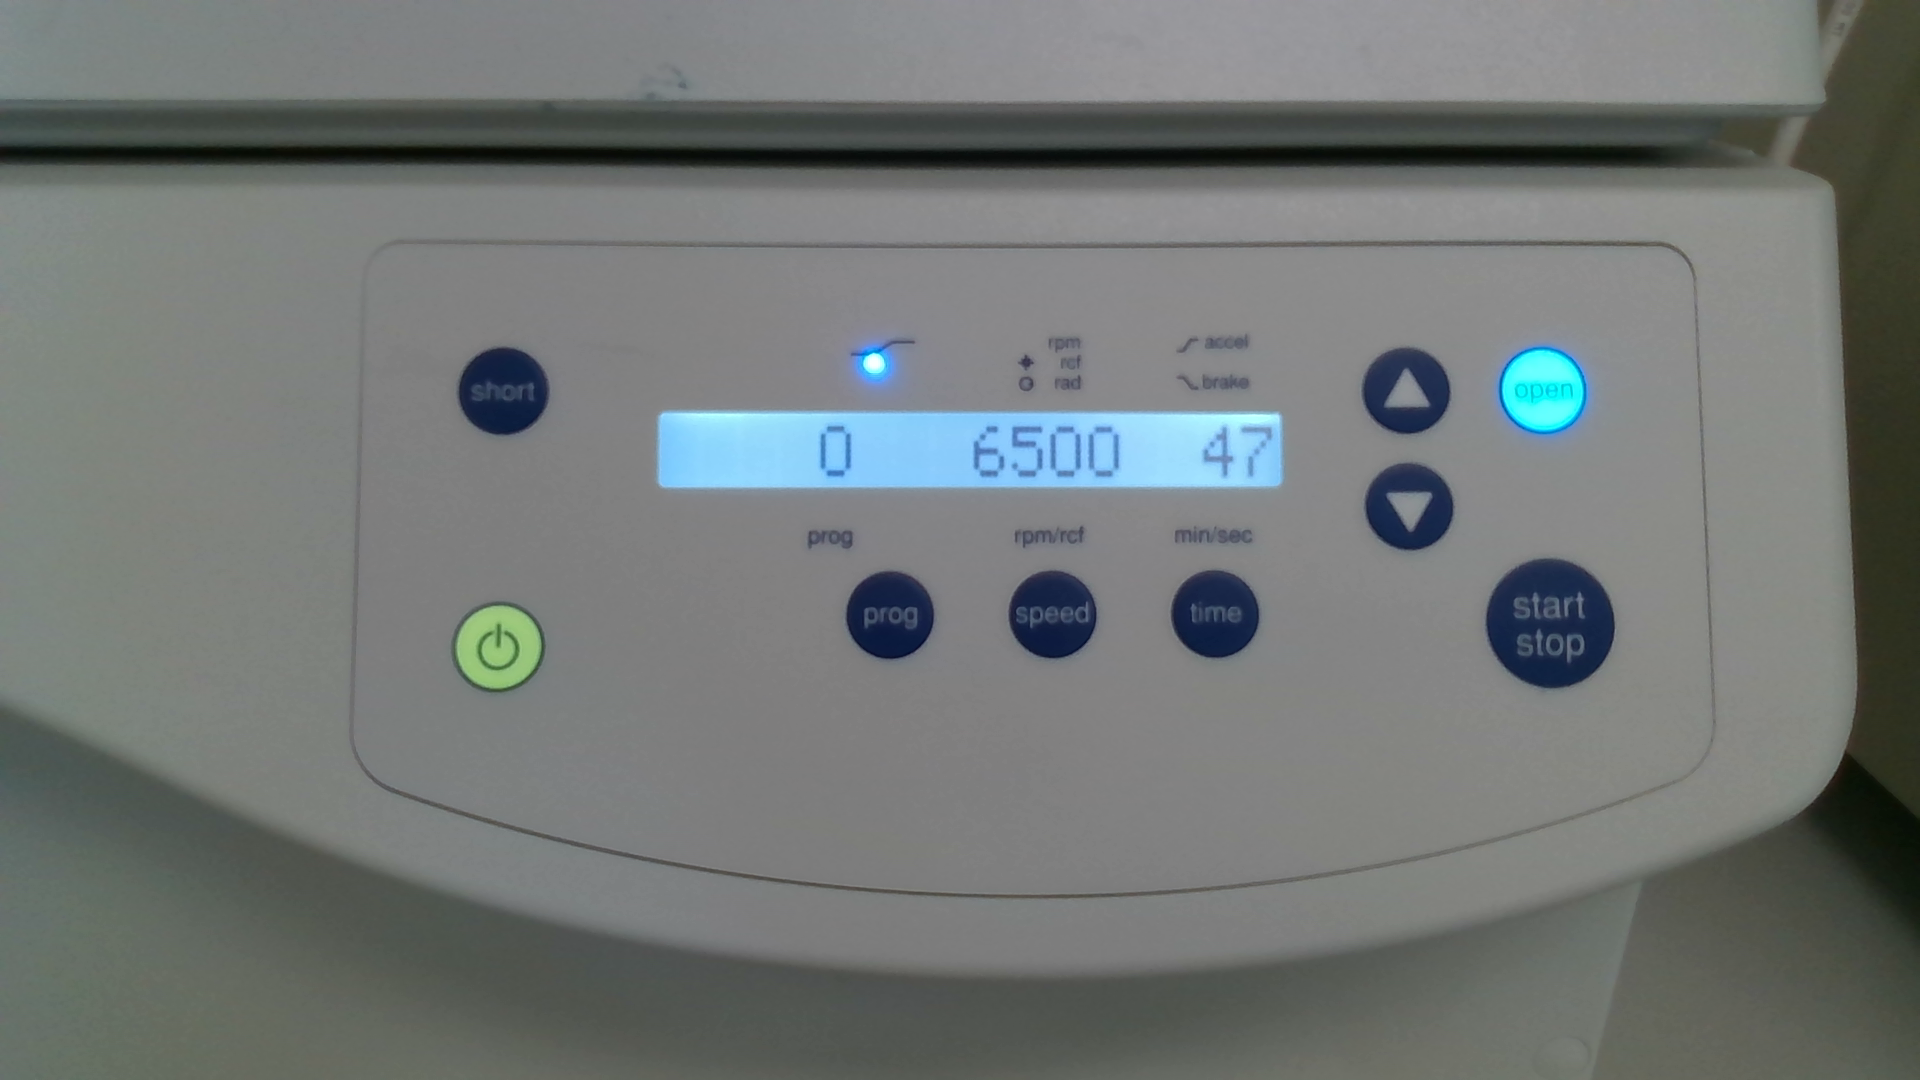0: (1050, 425, 1081, 477), (1088, 426, 1120, 477), (820, 425, 851, 477)
4: (1203, 426, 1234, 477)
5: (1011, 425, 1043, 477)
6: (973, 426, 1004, 477)
7: (1241, 426, 1273, 477)
open_on: (1498, 344, 1589, 436)
power_on: (452, 601, 545, 694)
